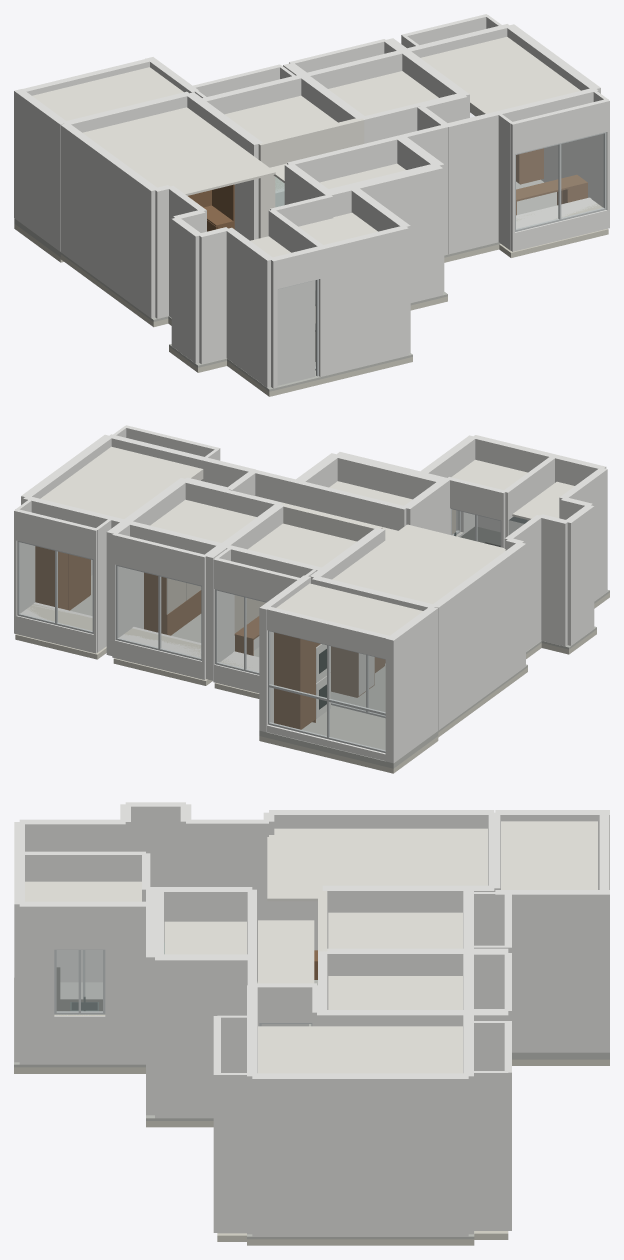
Rendered from MYM-01-木与梦全屋定制.glb.
The picture shows the model from 3 angles, top to bottom: view 1: azimuth 30°, elevation 25°; view 2: azimuth 150°, elevation 25°; view 3: azimuth 270°, elevation 25°; orthographic projection. The views are drawn at different scales.
Visible parts, largest first — view 1: W-living-west-jamb-0, W-kitchen-exterior-south-jamb-0, C-panel-living, W-bay-master-bottom-room-jamb-0, W-balcony-left-jamb-0, C-panel-master, W-entry-west-jamb-0, W-bathroom-south-jamb-3, C-panel-balcony, W-west-niche-jamb-0, D-entry-leaf, W-west-return-south-jamb-0 (+54 smaller); view 2: W-living-west-jamb-0, C-panel-living, W-balcony-left-jamb-0, C-panel-master, WIN-balcony-glass-b, WIN-balcony-glass-a, C-panel-balcony, W-west-niche-jamb-0, W-west-return-jamb-0, FIN-balcony-pending, W-balcony-front-lintel-2, WIN-bay-bedroom2-glass-a (+80 smaller); view 3: W-master-east-jamb-0, W-balcony-right-jamb-0, C-panel-living, W-bathroom-east-jamb-0, C-panel-master, W-kitchen-exterior-east-jamb-0, C-panel-balcony, W-west-portal-jamb-0, W-kitchen-exterior-east-jamb-3, W-bay-master-top-right-jamb-0, W-living-west-jamb-0, W-bay-master-bottom-right-jamb-0 (+44 smaller).
Boxes of the visible parts, x1,y1,x2,y2 form: W-living-west-jamb-0: [60, 124, 157, 318]; W-kitchen-exterior-south-jamb-0: [321, 225, 408, 375]; C-panel-living: [85, 107, 275, 195]; W-bay-master-bottom-room-jamb-0: [445, 111, 499, 254]; W-balcony-left-jamb-0: [14, 89, 65, 251]; C-panel-master: [425, 37, 580, 113]; W-entry-west-jamb-0: [226, 227, 273, 387]; W-bathroom-south-jamb-3: [390, 164, 442, 302]; C-panel-balcony: [32, 67, 183, 119]; W-west-niche-jamb-0: [171, 217, 202, 363]; D-entry-leaf: [277, 280, 315, 385]; W-west-return-south-jamb-0: [199, 227, 229, 364]; W-living-west-jamb-0: [432, 542, 525, 730]; C-panel-living: [332, 524, 505, 603]; W-balcony-left-jamb-0: [385, 606, 438, 763]; C-panel-master: [40, 446, 202, 517]; WIN-balcony-glass-b: [269, 632, 326, 736]; WIN-balcony-glass-a: [329, 646, 385, 750]; C-panel-balcony: [276, 583, 422, 635]; W-west-niche-jamb-0: [566, 504, 594, 645]; W-west-return-jamb-0: [538, 514, 569, 646]; FIN-balcony-pending: [259, 705, 438, 768]; W-balcony-front-lintel-2: [267, 606, 389, 658]; WIN-bay-bedroom2-glass-a: [160, 577, 200, 658]; W-master-east-jamb-0: [252, 1073, 468, 1236]; W-balcony-right-jamb-0: [495, 890, 609, 1052]; C-panel-living: [267, 828, 487, 901]; W-bathroom-east-jamb-0: [155, 954, 251, 1118]; C-panel-master: [258, 1026, 462, 1073]; W-kitchen-exterior-east-jamb-0: [105, 901, 145, 1064]; C-panel-balcony: [501, 821, 597, 889]; W-west-portal-jamb-0: [186, 819, 268, 981]; W-kitchen-exterior-east-jamb-3: [19, 901, 54, 1064]; W-bay-master-top-right-jamb-0: [468, 1071, 508, 1230]; W-living-west-jamb-0: [269, 810, 494, 950]; W-bay-master-bottom-right-jamb-0: [217, 1073, 251, 1233].
Bounding box in the file's own units: 11.08 × 3.2 × 10.08.
